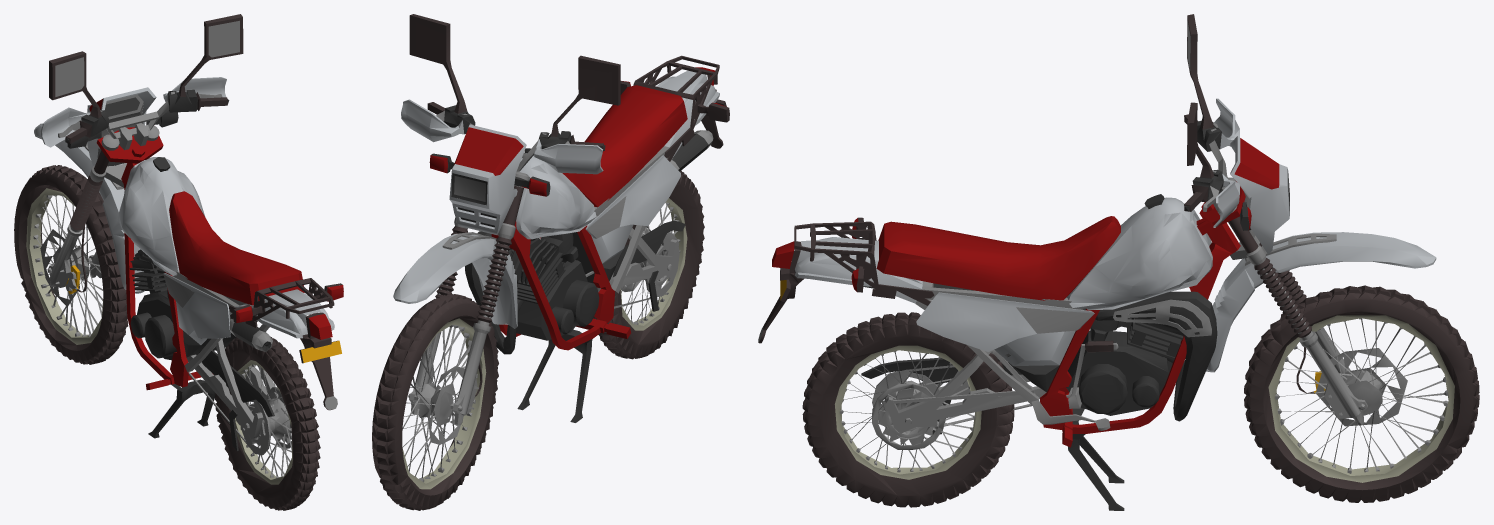
Rendered from moto_enduro.glb.
The picture shows the model from 3 angles, left to right: view 1: azimuth 30°, elevation 25°; view 2: azimuth 150°, elevation 25°; view 3: azimuth 270°, elevation 25°; orthographic projection. The views are drawn at different scales.
Parts seen in each view (by area): view 1: carroceria_detalle, carroceria_pintura, carroceria_stop, rueda_del_detalle, rueda_tras_detalle, horquilla_del_detalle; view 2: carroceria_detalle, carroceria_pintura, rueda_del_detalle, carroceria_stop, rueda_tras_detalle, horquilla_del_detalle; view 3: carroceria_detalle, carroceria_pintura, rueda_del_detalle, carroceria_stop, rueda_tras_detalle, horquilla_del_detalle.
Part boxes in pixels (x1=…): carroceria_detalle: x1=47, y1=14, x2=342, y2=478; carroceria_pintura: x1=34, y1=77, x2=334, y2=344; carroceria_stop: x1=89, y1=99, x2=343, y2=390; rueda_del_detalle: x1=14, y1=165, x2=128, y2=364; rueda_tras_detalle: x1=215, y1=336, x2=320, y2=510; horquilla_del_detalle: x1=33, y1=195, x2=103, y2=336; carroceria_detalle: x1=408, y1=14, x2=729, y2=425; carroceria_pintura: x1=393, y1=70, x2=719, y2=328; rueda_del_detalle: x1=372, y1=294, x2=498, y2=510; carroceria_stop: x1=429, y1=67, x2=726, y2=350; rueda_tras_detalle: x1=593, y1=170, x2=704, y2=359; horquilla_del_detalle: x1=402, y1=288, x2=483, y2=482; carroceria_detalle: x1=758, y1=14, x2=1367, y2=510; carroceria_pintura: x1=795, y1=98, x2=1436, y2=372; rueda_del_detalle: x1=1244, y1=285, x2=1479, y2=502; carroceria_stop: x1=772, y1=138, x2=1279, y2=447; rueda_tras_detalle: x1=802, y1=312, x2=1014, y2=507; horquilla_del_detalle: x1=1275, y1=290, x2=1448, y2=473.
Bounding box in the file's own units: 0.7309 × 1.37 × 2.05.
